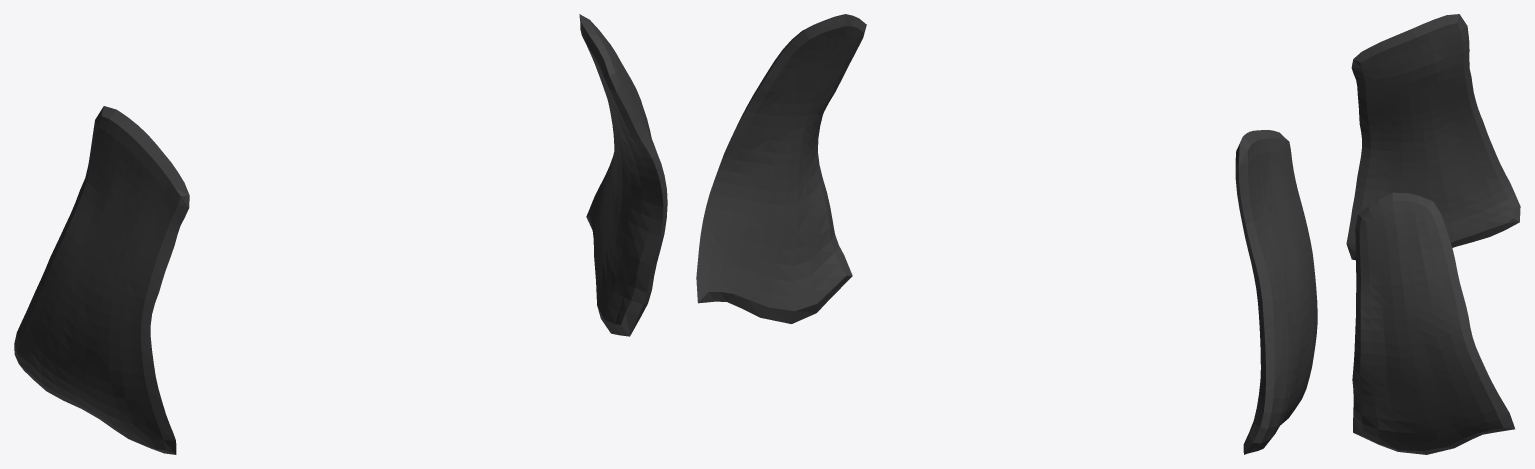
File: Fetlock_colls.glb
3 views of the same model, side by side, from view 1: azimuth 30°, elevation 25°; view 2: azimuth 150°, elevation 25°; view 3: azimuth 270°, elevation 25° (orthographic). The views are drawn at different scales.
Parts seen in each view (by area): view 1: Fetlock_colls; view 2: Fetlock_colls; view 3: Fetlock_colls.
Boxes of the visible parts, <box> form: Fetlock_colls: <box>14,14,667,454</box>; Fetlock_colls: <box>696,14,1317,454</box>; Fetlock_colls: <box>1346,14,1520,454</box>.
Size of the model in its own units: 2.26 by 1.16 by 0.7178.
Materials: 1 (1 with a texture image).
